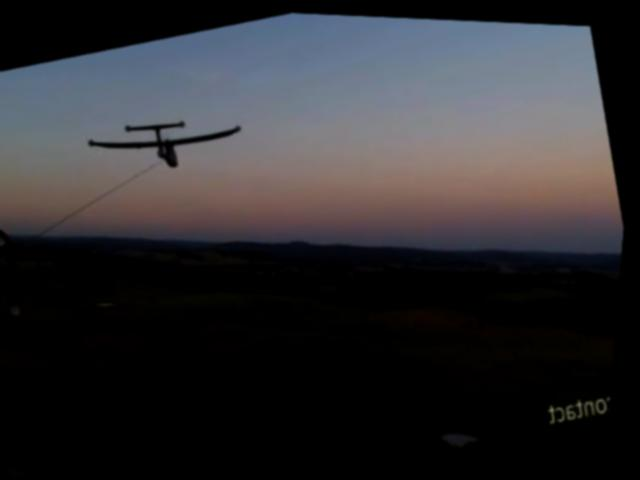uav: (81, 90, 245, 190)
